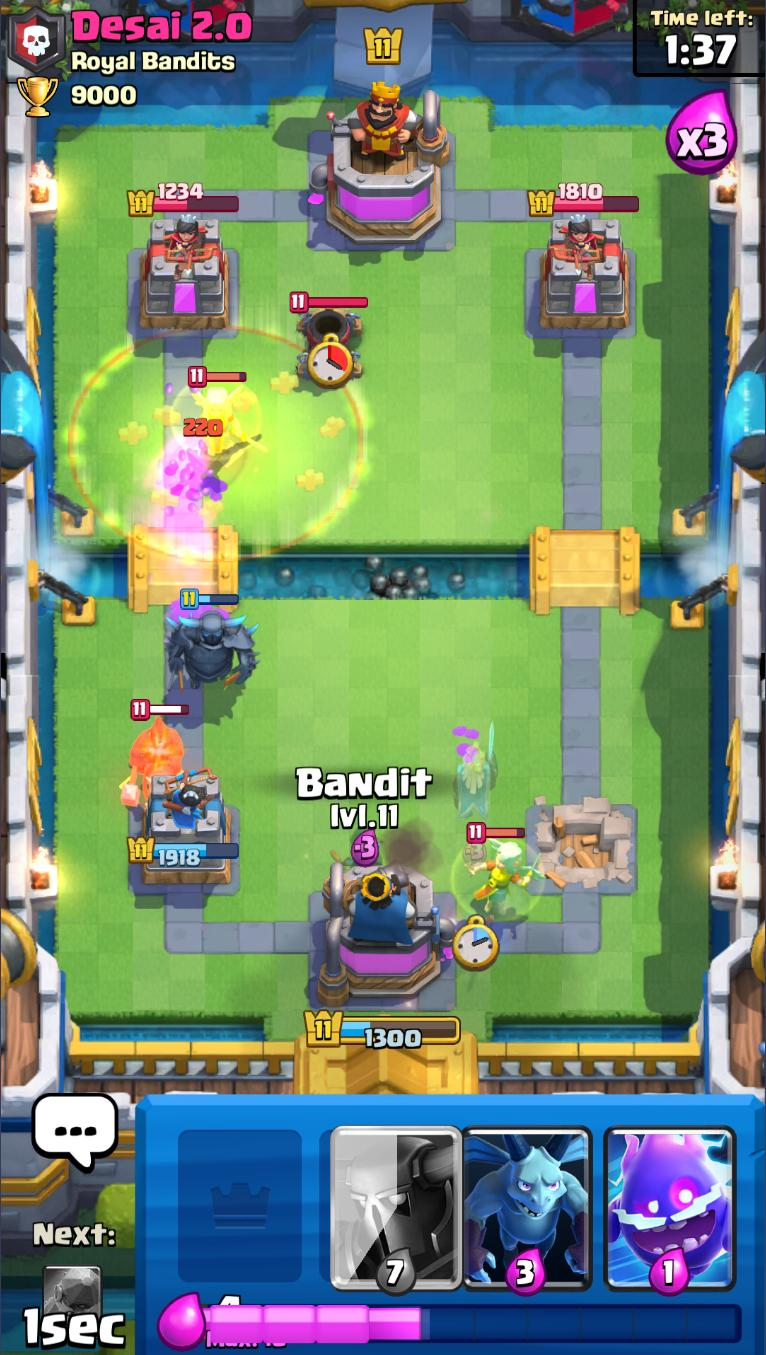BattleRamNext: (41, 1262, 105, 1343)
ElectroSpiritDeck: (597, 1097, 742, 1298)
Elixir: (203, 1296, 744, 1351)
Empty: (166, 1096, 312, 1295)
EnemyTower: (135, 216, 234, 331), (537, 216, 633, 333)
Healer: (461, 821, 543, 917), (184, 364, 258, 460)
Hog: (114, 697, 186, 812)
KingTower: (307, 78, 453, 247)
MinionsDeck: (455, 1097, 598, 1293)
Mortar: (288, 291, 372, 377)
MyKingHP: (302, 1010, 462, 1053)
MyKingTower: (315, 859, 460, 1009)
MyPekka: (162, 590, 259, 695)
MyPrincessTower: (128, 772, 242, 890)
MyPrincessTowerBrocken: (526, 798, 641, 900)
MyPrincessTowerHP: (127, 836, 241, 869)
MyRoyaleGhost: (452, 724, 499, 820)
PekkaDeck: (310, 1095, 451, 1290)
TowerPrincessHP: (528, 182, 640, 219), (128, 182, 241, 218)
